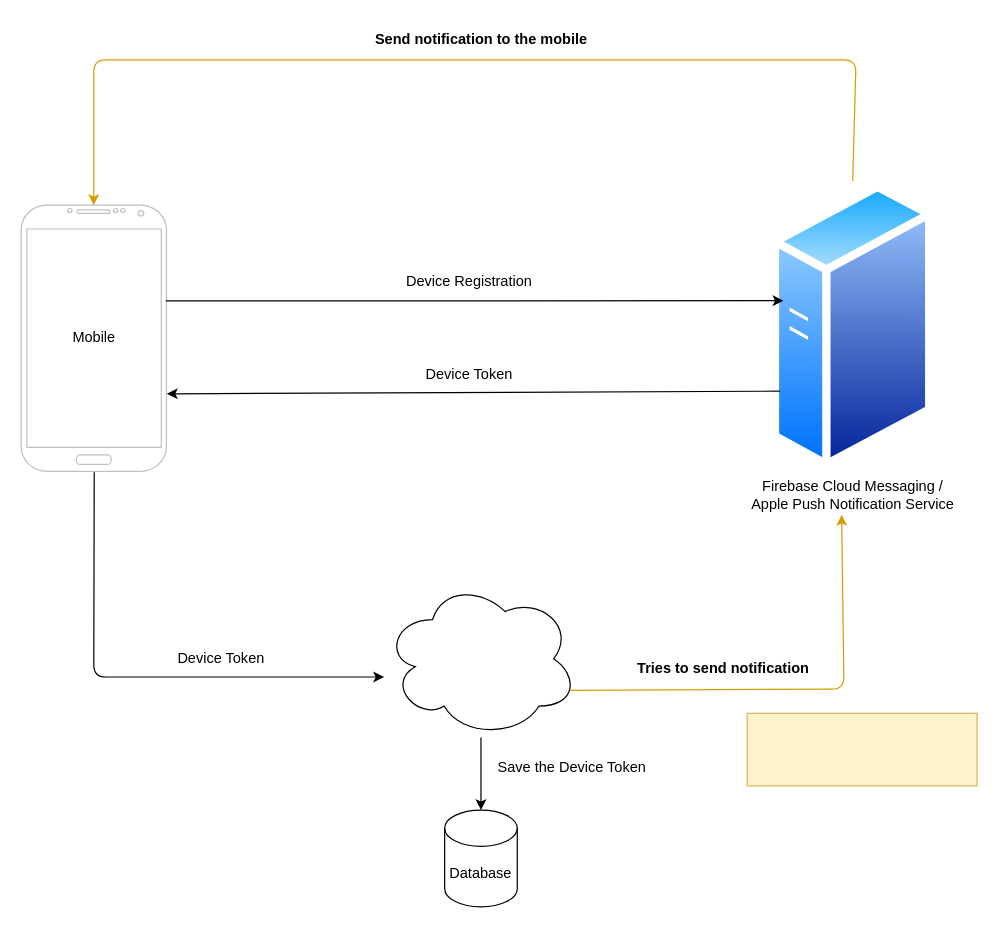
Image size: 998x928. Some labels were removed from this diagram. The shapes that lost their labels are listed below. From the top down, each one's centre as x and y in pixels, then its label:
the point at 480,658: Backend Node.js Server
the point at 861,749: Device Token + Payload (title, message, other)
